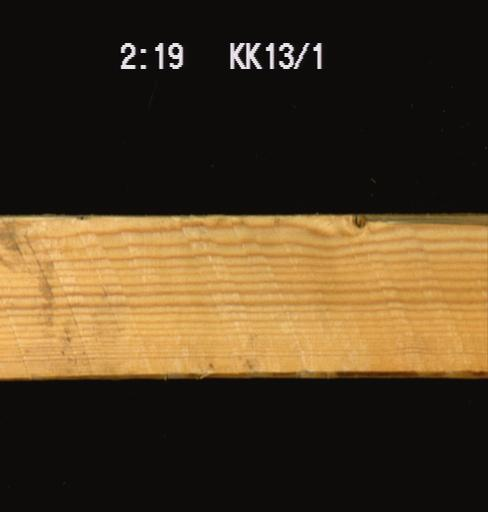edge_knot: (349, 213, 367, 236)
wave: (60, 361, 482, 379), (365, 213, 486, 227)
